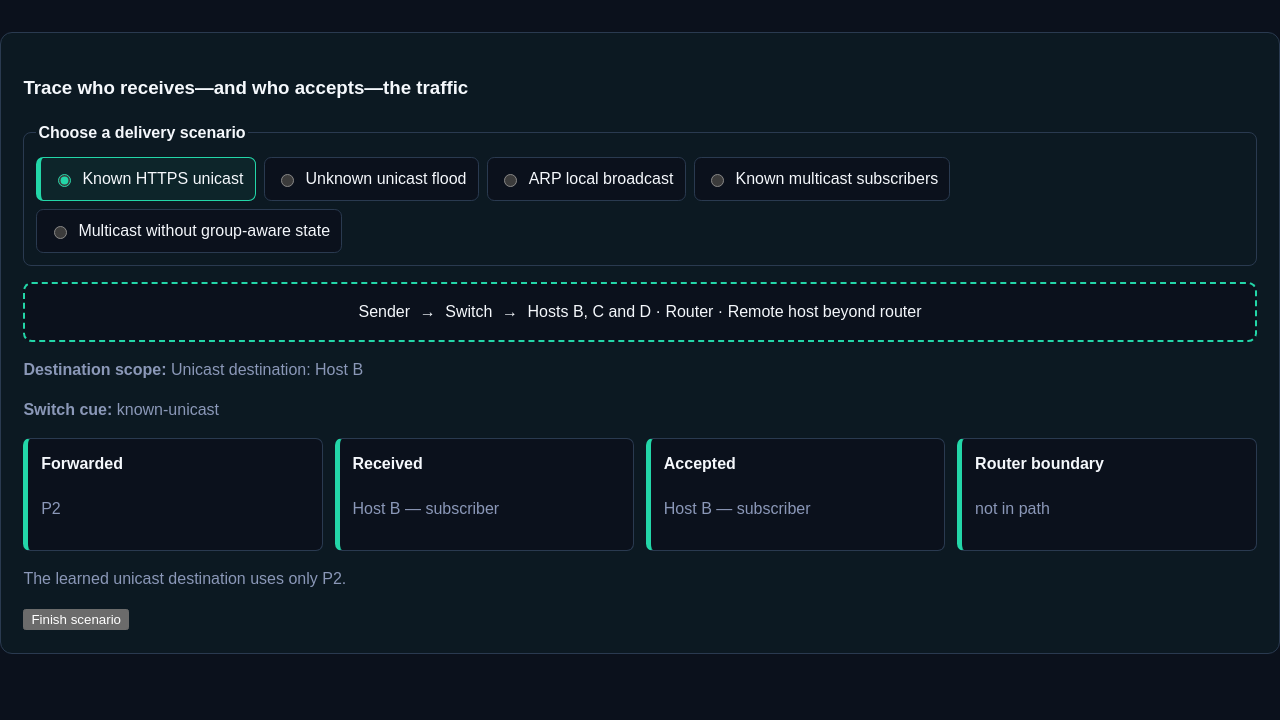
Scenario: DeliveryScopePlayer › changes meaningful text and preserves unicast identity when unknown unicast floods
The image size is (1280, 720).
Click the radio button labelled "Unknown unicast flood": (287, 180) [281,174,294,187]
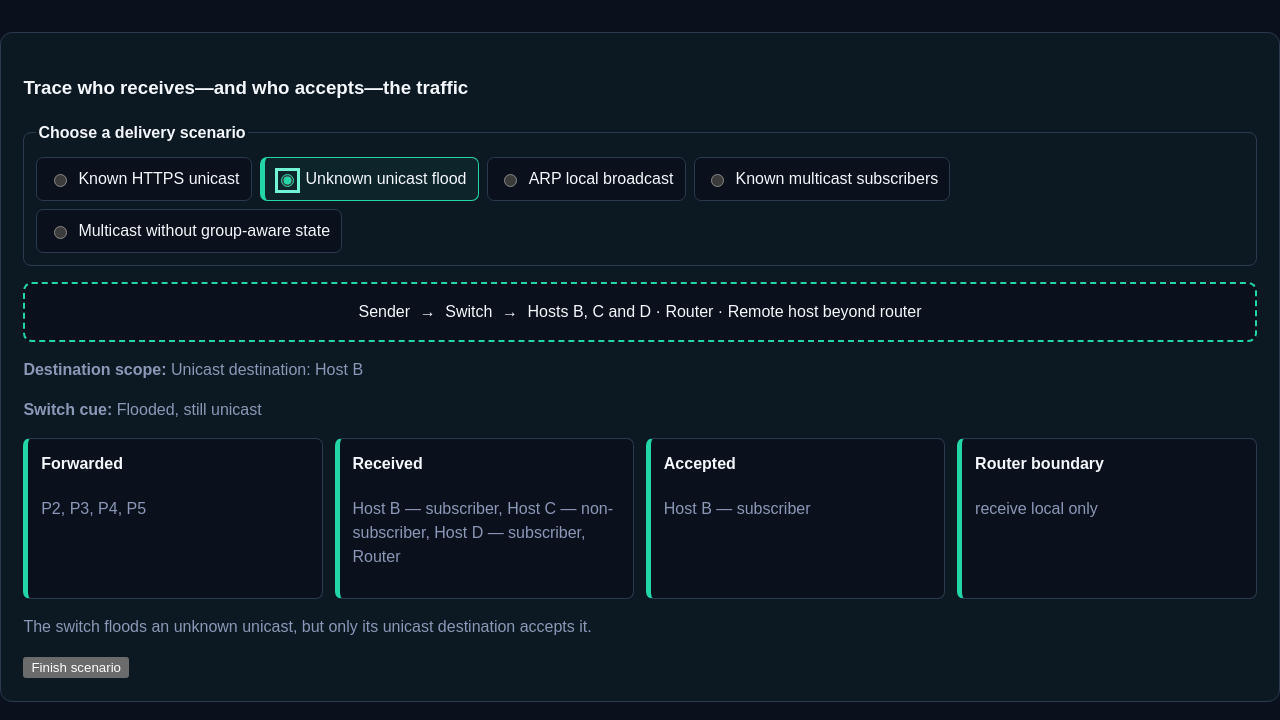
Check: the text "Destination scope: Unicast destination: Host B" is shown, box [23,361,363,378]
Check: the text "Switch cue: Flooded, still unicast" is shown, box [23,401,262,418]
Check: the text "Host C" is shown, box [352,500,613,565]
